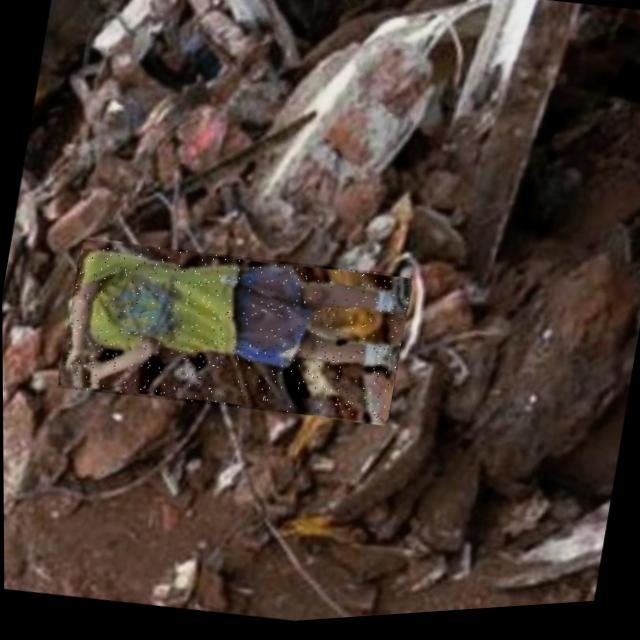Person in Rubble: (55, 221, 413, 445)
